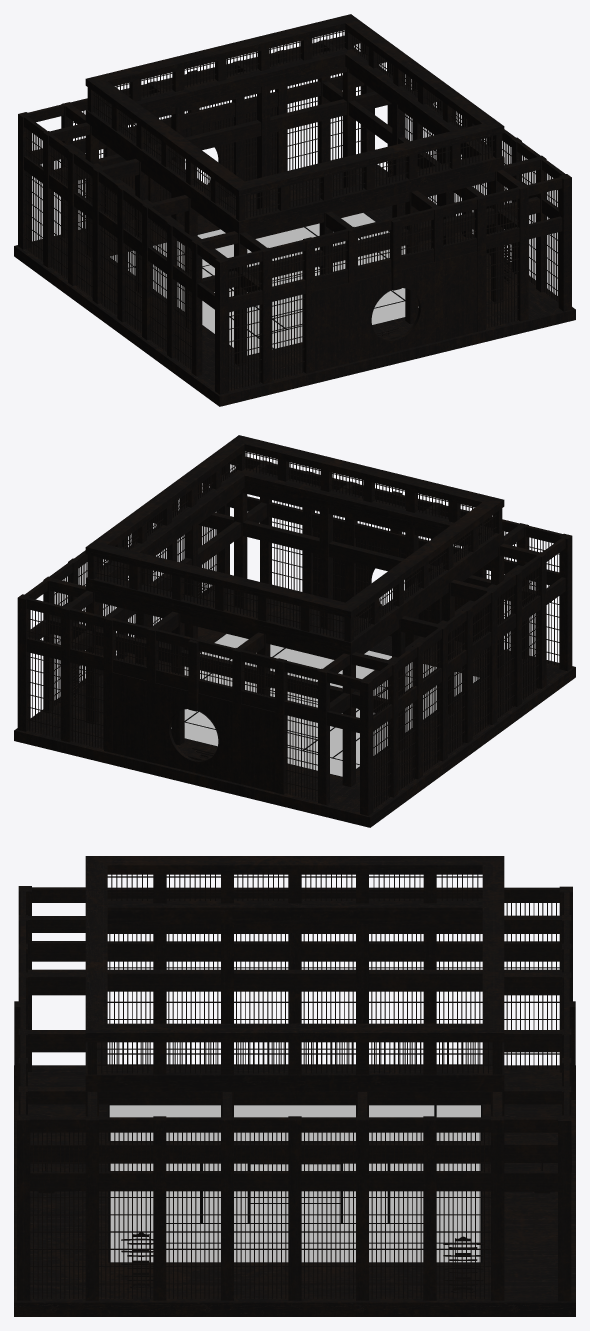
File: uploads_files_3440008_Tatami_Combat_Training.obj
3 views of the same model, one above another, from view 1: azimuth 30°, elevation 25°; view 2: azimuth 150°, elevation 25°; view 3: azimuth 270°, elevation 25° (orthographic). The views are drawn at different scales.
Parts seen in each view (by area): view 1: Columns, Capitel_ceil, Columns_fill_vertical, Floor, Wood_windows, Columns_fill_vertical1, Columns_fill_horizontal, Columns_fill_horizontal1, Tatami.006, Tatami.007, Tatami.001, Tatami.004 (+1 smaller); view 2: Columns, Capitel_ceil, Columns_fill_vertical, Floor, Wood_windows, Columns_fill_vertical1, Columns_fill_horizontal, Columns_fill_horizontal1, Tatami.005, Tatami.006, Tatami.004, Tatami.001 (+1 smaller); view 3: Columns, Capitel_ceil, Floor, Columns_fill_vertical, Columns_fill_horizontal, Columns_fill_vertical1, Tatami.008, Tatami.006, Tatami.003, Tatami.005, Tatami.007, Columns_fill_horizontal1 (+9 smaller).
Boxes of the visible parts, x1=… form: Columns: x1=18, y1=30, x2=571, y2=394; Capitel_ceil: x1=85, y1=14, x2=504, y2=233; Columns_fill_vertical: x1=26, y1=43, x2=558, y2=390; Floor: x1=14, y1=164, x2=575, y2=406; Wood_windows: x1=116, y1=106, x2=477, y2=371; Columns_fill_vertical1: x1=94, y1=30, x2=492, y2=217; Columns_fill_horizontal: x1=25, y1=52, x2=558, y2=380; Columns_fill_horizontal1: x1=93, y1=30, x2=494, y2=212; Tatami.006: x1=128, y1=264, x2=273, y2=355; Tatami.007: x1=258, y1=301, x2=418, y2=348; Tatami.001: x1=202, y1=227, x2=316, y2=266; Tatami.004: x1=272, y1=290, x2=404, y2=329; Columns: x1=17, y1=451, x2=572, y2=815; Capitel_ceil: x1=85, y1=435, x2=504, y2=654; Columns_fill_vertical: x1=29, y1=483, x2=557, y2=809; Floor: x1=14, y1=585, x2=575, y2=827; Wood_windows: x1=112, y1=527, x2=473, y2=792; Columns_fill_vertical1: x1=97, y1=451, x2=495, y2=638; Columns_fill_horizontal: x1=27, y1=484, x2=559, y2=798; Columns_fill_horizontal1: x1=95, y1=451, x2=496, y2=633; Tatami.005: x1=171, y1=722, x2=359, y2=776; Tatami.006: x1=333, y1=671, x2=481, y2=764; Tatami.004: x1=273, y1=648, x2=387, y2=687; Tatami.001: x1=185, y1=711, x2=317, y2=750; Columns: x1=14, y1=874, x2=575, y2=1301; Capitel_ceil: x1=85, y1=856, x2=504, y2=1091; Floor: x1=14, y1=1065, x2=575, y2=1316; Columns_fill_vertical: x1=33, y1=903, x2=556, y2=1298; Columns_fill_horizontal: x1=30, y1=915, x2=559, y2=1284; Columns_fill_vertical1: x1=101, y1=874, x2=488, y2=1073; Tatami.008: x1=166, y1=1243, x2=482, y2=1262; Tatami.006: x1=108, y1=1104, x2=435, y2=1117; Tatami.003: x1=166, y1=1223, x2=423, y2=1242; Tatami.005: x1=435, y1=1104, x2=482, y2=1242; Tatami.007: x1=108, y1=1132, x2=153, y2=1262; Columns_fill_horizontal1: x1=97, y1=876, x2=492, y2=1065.
Size of the model in its own units: 14.07 by 7.01 by 14.07.
